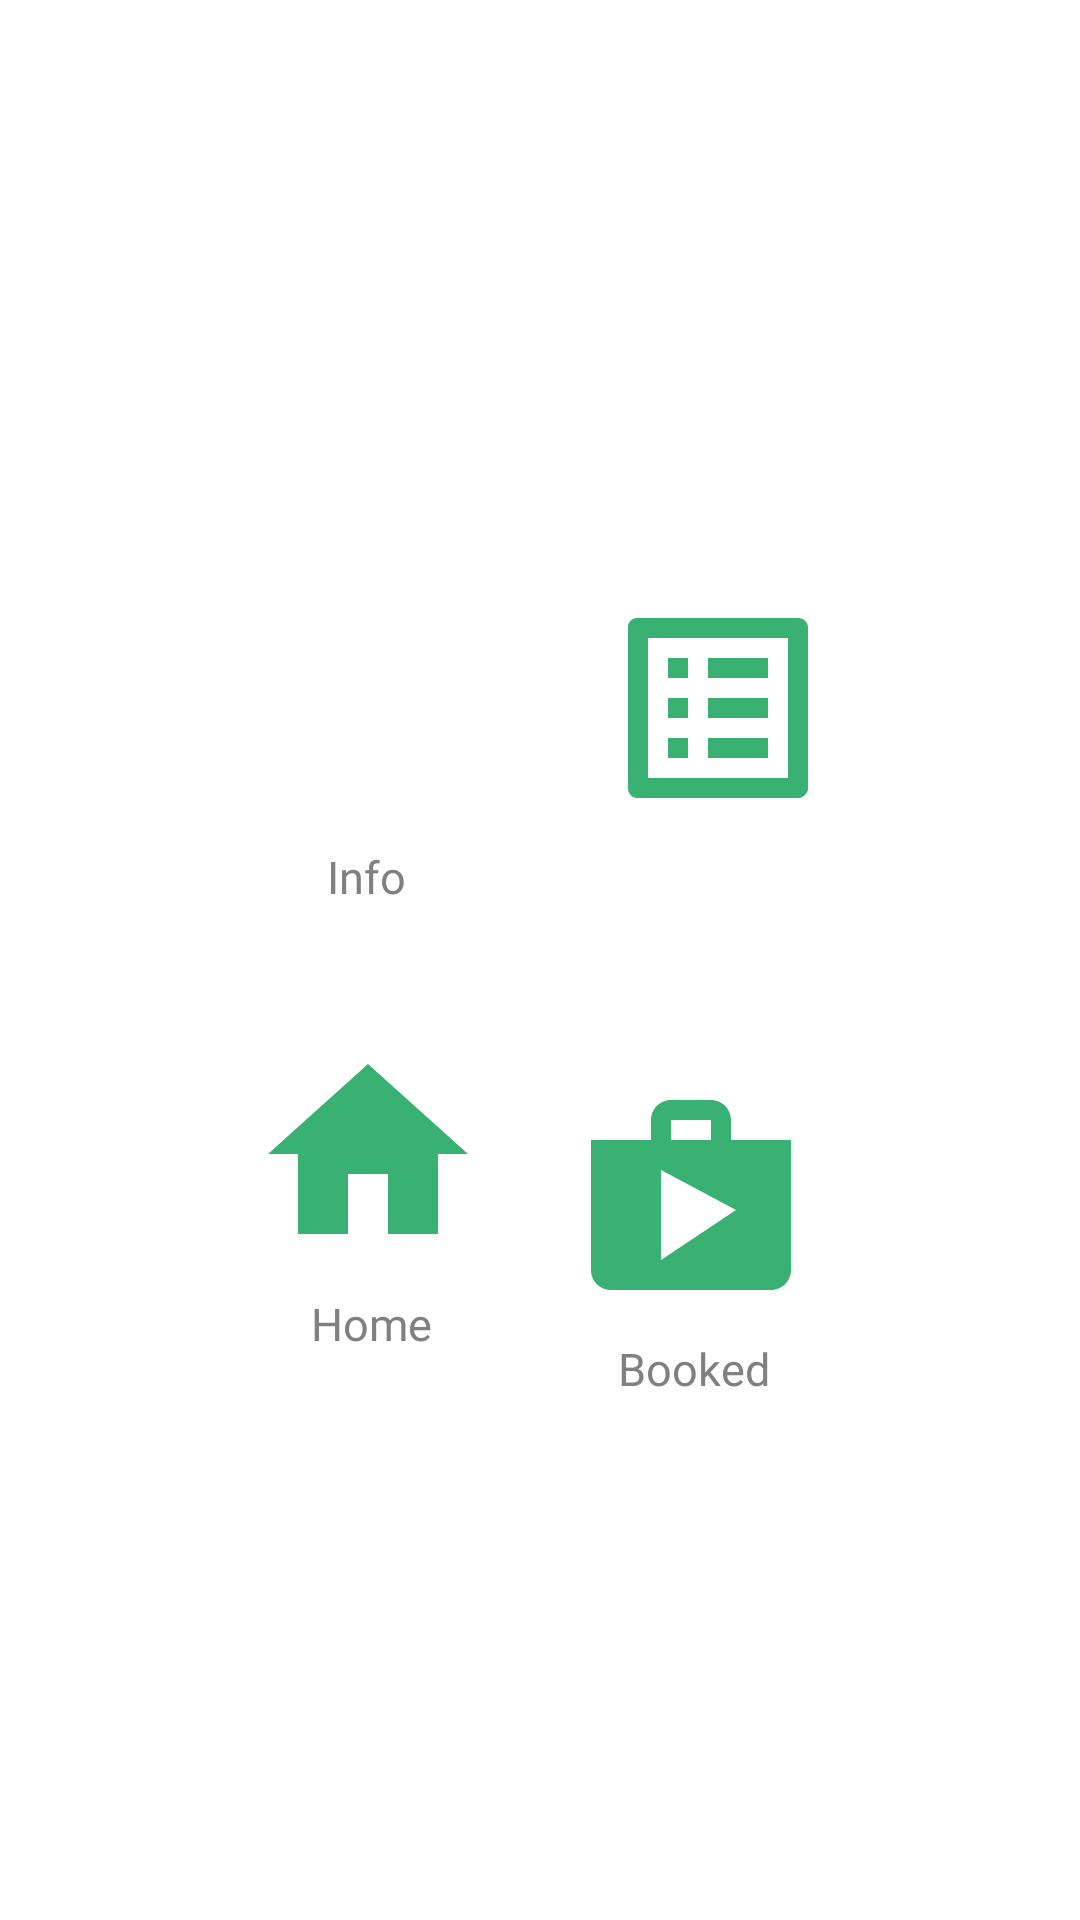

Point at icon controls on the screen. Image size 1080x1920, points as point (x, y).
list: point (718, 708)
